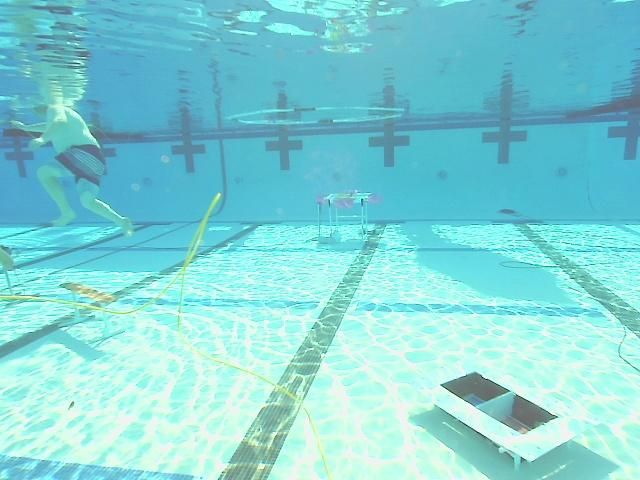dropper: (427, 361, 586, 464)
table: (316, 188, 382, 244)
